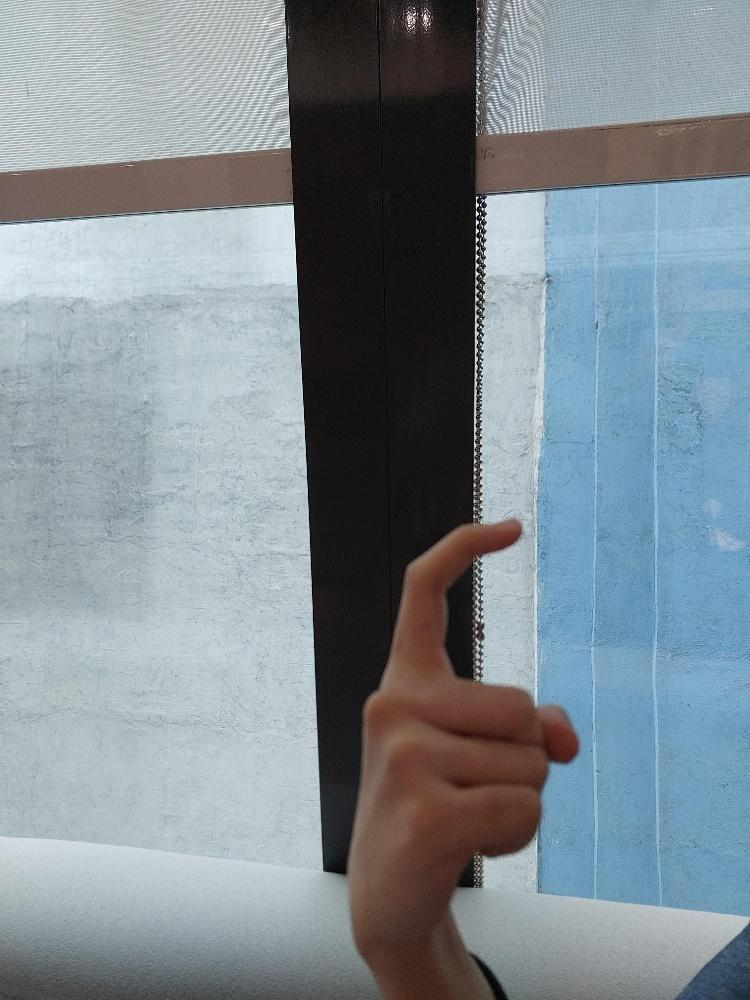x: (347, 517, 580, 926)
